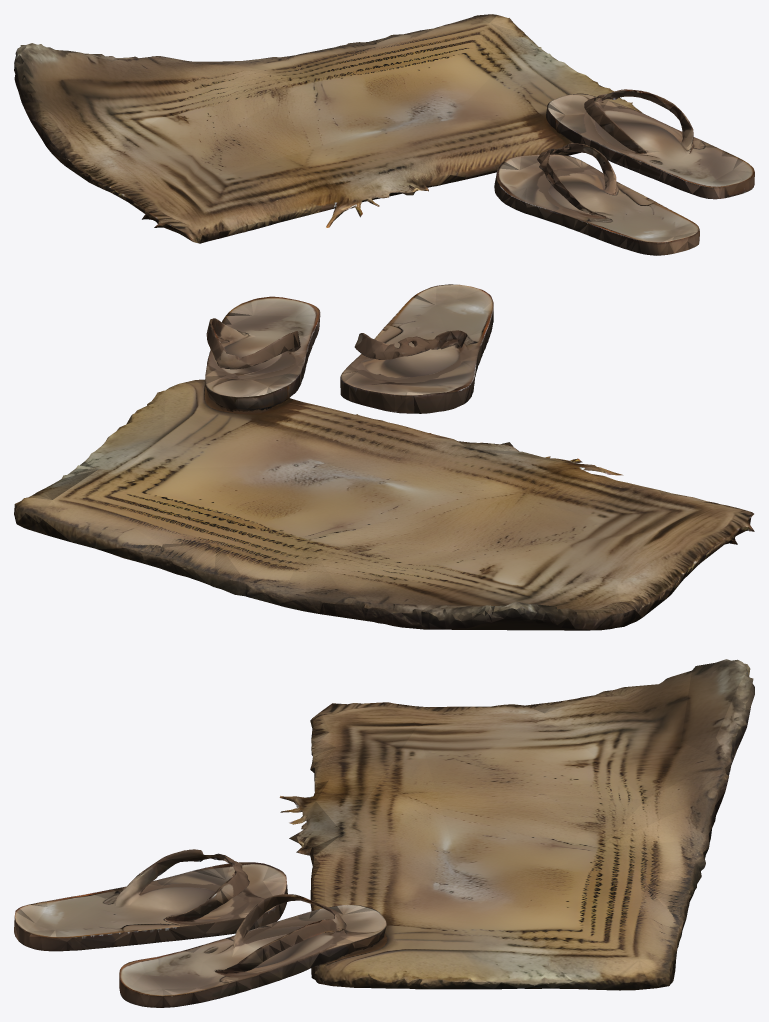
File: Doormate Sandal.fbx
The picture shows the model from 3 angles, top to bottom: view 1: azimuth 30°, elevation 25°; view 2: azimuth 150°, elevation 25°; view 3: azimuth 270°, elevation 25°; orthographic projection. The views are drawn at different scales.
Parts seen in each view (by area): view 1: model; view 2: model; view 3: model.
Part boxes in pixels (x1,y1,x2,y2): model: [14, 14, 754, 255]; model: [14, 284, 754, 630]; model: [14, 659, 754, 1007].
Bounding box in the file's own units: 1.77 × 0.2216 × 1.9.
Materials: 1 (1 with a texture image).
